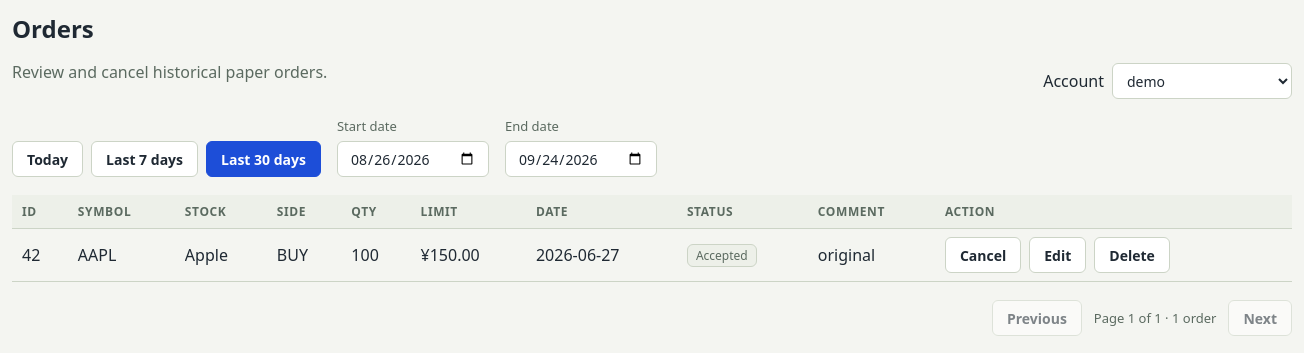
Test: OrdersPage › cancels inline edit without saving
Check: the text "original" is shown, box [808,228,935,282]
Click the button "Edit".
click(1058, 255)  # box [1029,237,1086,273]
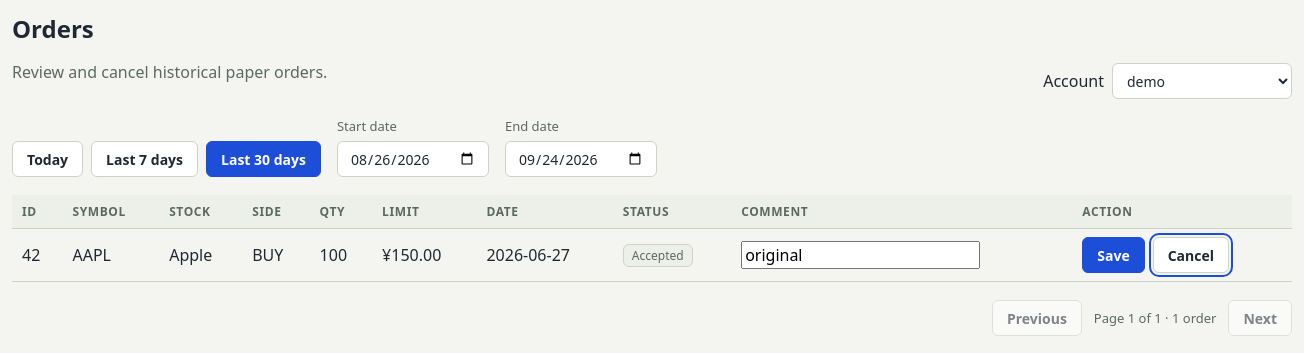
Replace the text in the field showing "original" with "changed but cancelled" at {"x": 861, "y": 255}, box [741,241,980,269]
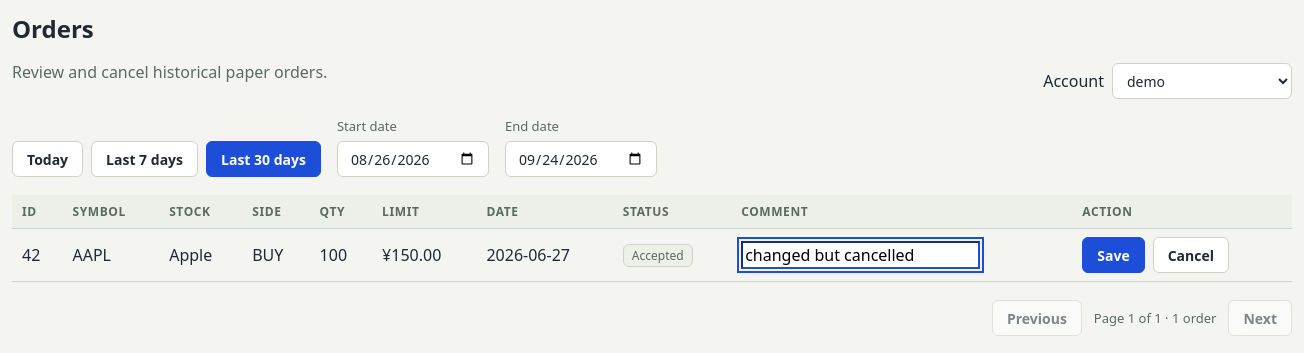
Click the button "Cancel".
click(1191, 255)  # box [1153,237,1229,273]
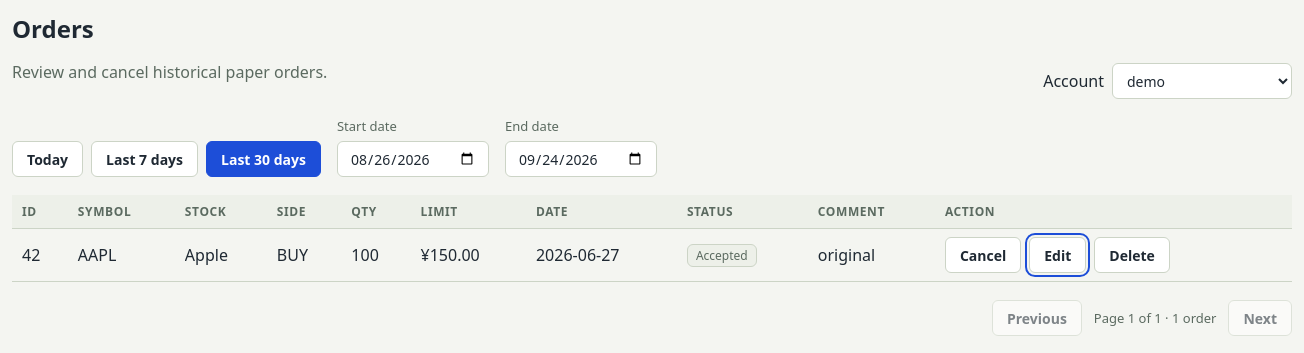
Check: the text "original" is shown, box [808,228,935,282]
Check: the button "Save" is gone
